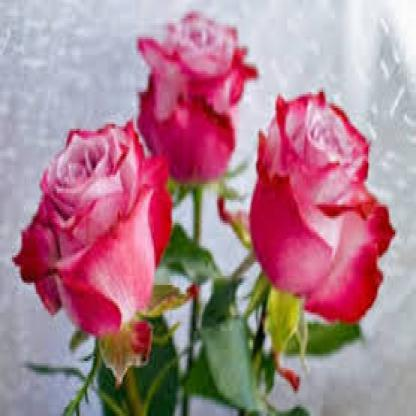Rose-Mawar: (10, 114, 164, 344), (248, 86, 399, 316), (130, 8, 252, 199)
